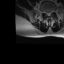CCS_normal: (48, 9, 49, 18)
LFS_normal: (51, 8, 53, 15)
LLS_normal: (49, 9, 51, 16)
RFS_normal: (44, 8, 46, 16)
RLS_normal: (46, 9, 47, 17)
